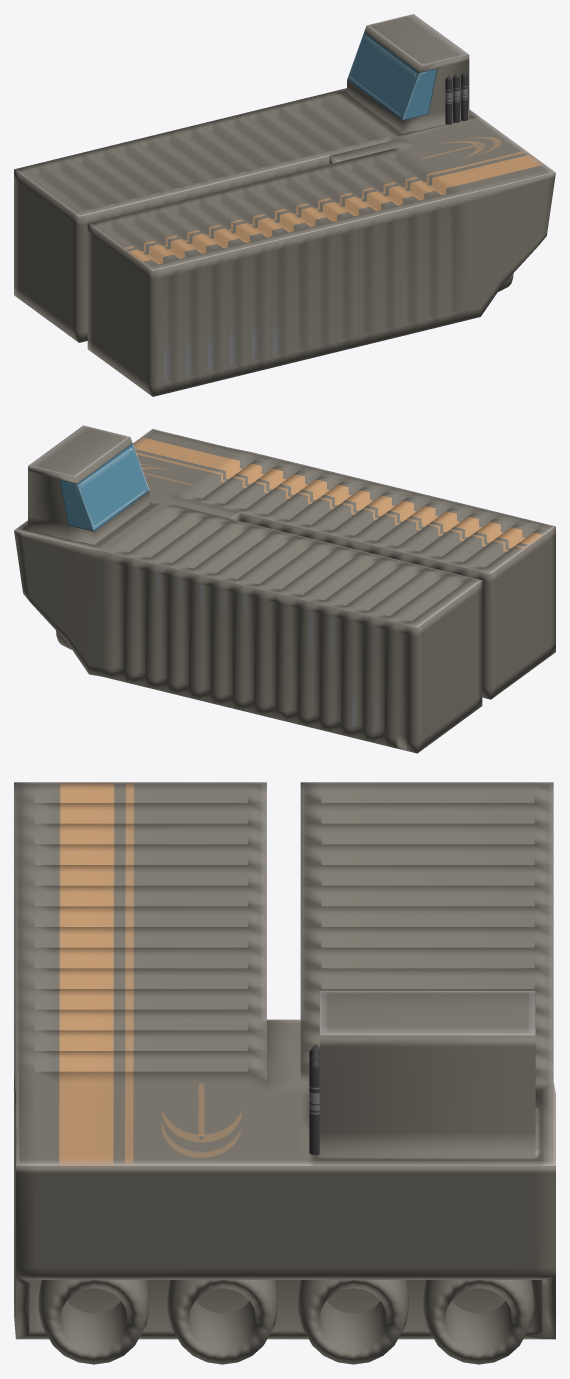
The model's file is tank.fbx.
The picture shows the model from 3 angles, top to bottom: view 1: azimuth 30°, elevation 25°; view 2: azimuth 150°, elevation 25°; view 3: azimuth 270°, elevation 25°; orthographic projection. The views are drawn at different scales.
Visible parts, largest first — view 1: tank; view 2: tank; view 3: tank.
Boxes of the visible parts, bbox=[...] form: tank: bbox=[14, 14, 555, 396]; tank: bbox=[14, 425, 555, 753]; tank: bbox=[14, 782, 555, 1364].
Size of the model in its own units: 26.83 by 11.99 by 16.06.
